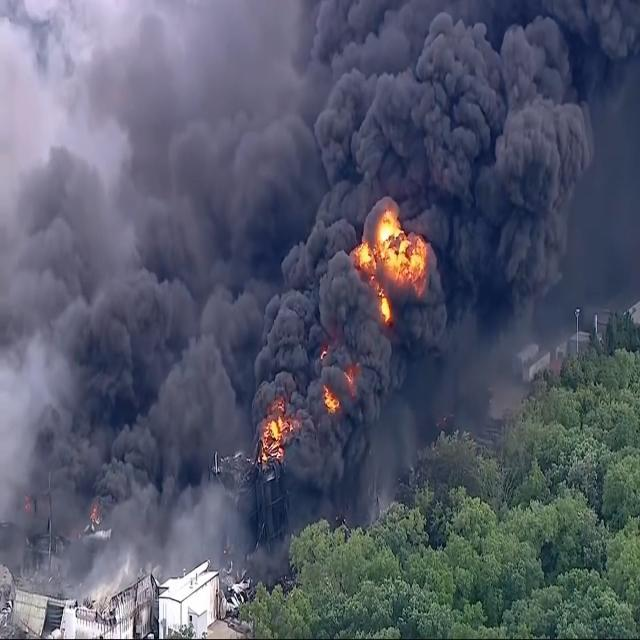Fire: (348, 206, 434, 322), (316, 357, 364, 418), (266, 400, 300, 460)
Smoke: (254, 0, 635, 498), (6, 103, 330, 569)
